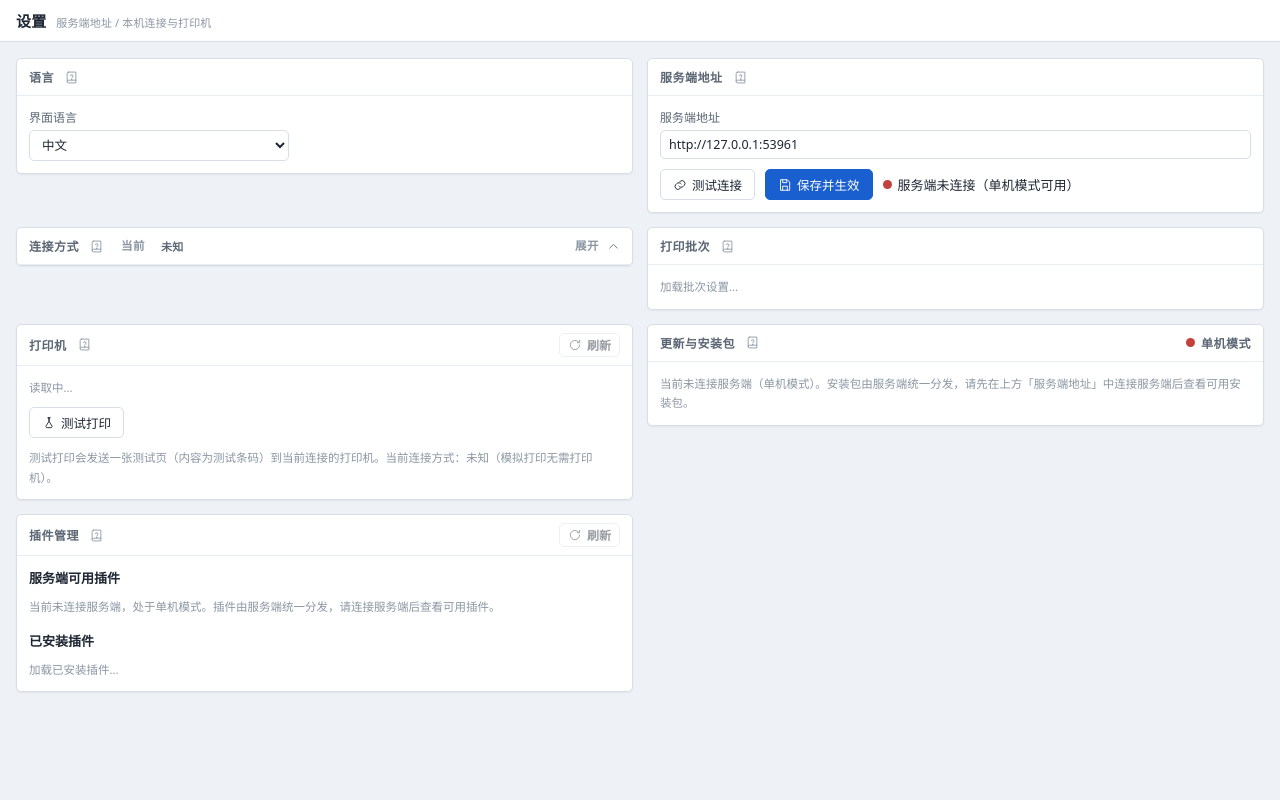
it: 服务端地址（F2） › 保存并生效：setHostConfig({ serverUrl }) + localStorage 兜底 + 提示立即生效
Type "http://192.168.1.10:53961" into the field labelled "服务端地址" at (956, 144), box [660,130,1251,159]
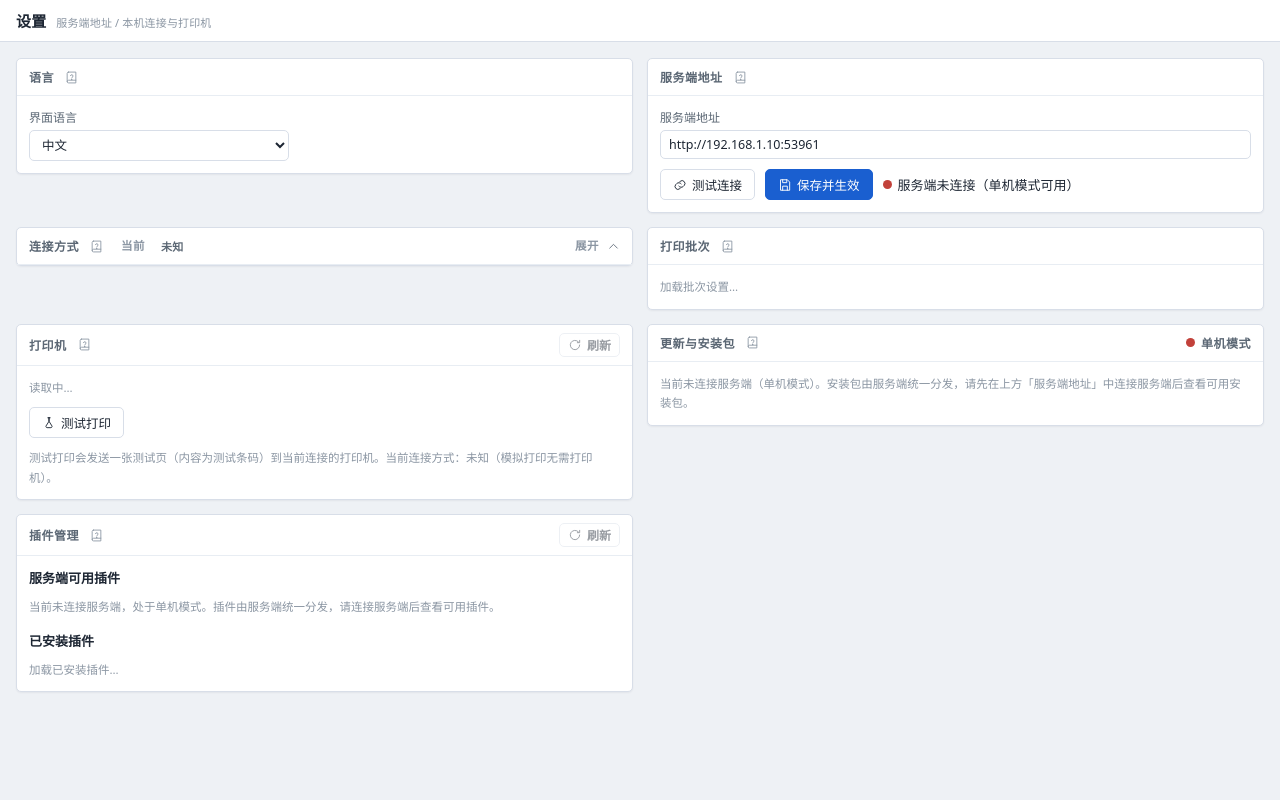
Click the button "保存并生效" at (819, 184), box [765,169,872,200]
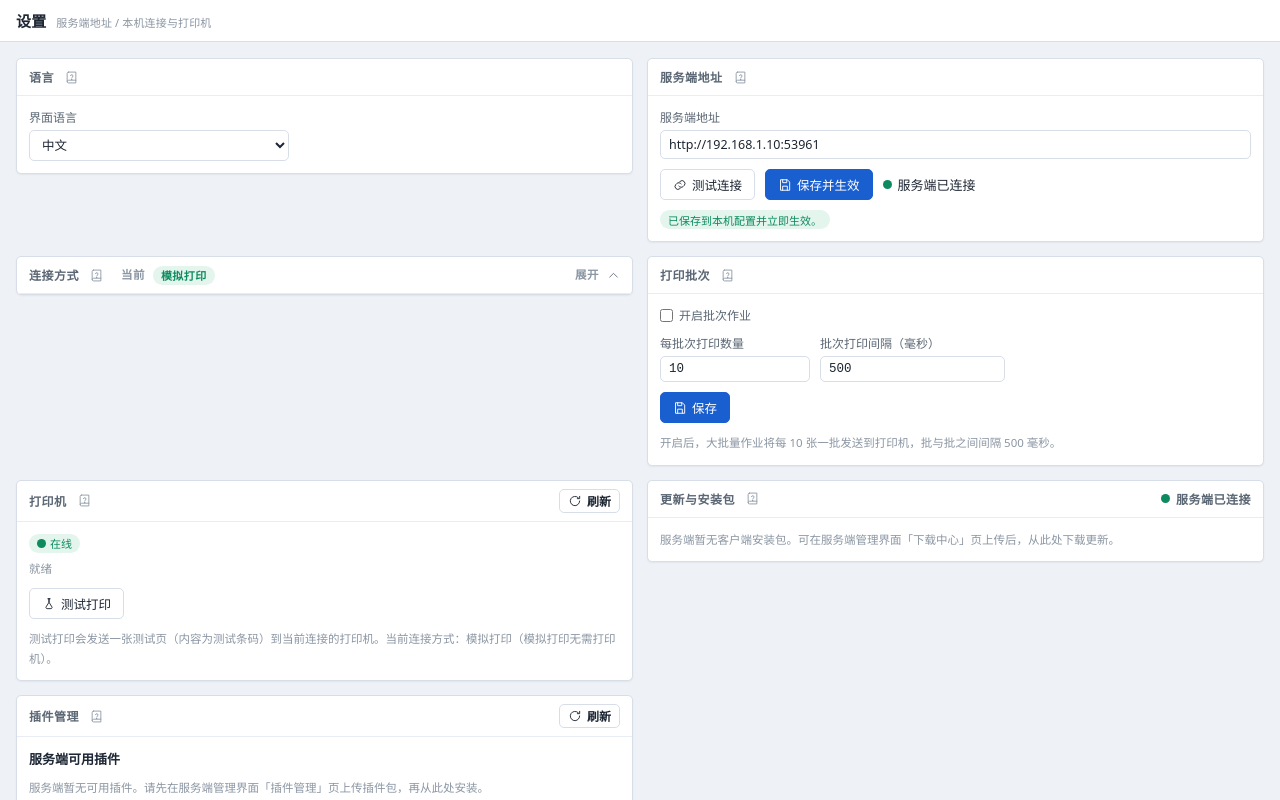
Check: the text "已保存到本机配置并立即生效。" is shown, box [660,210,830,229]
